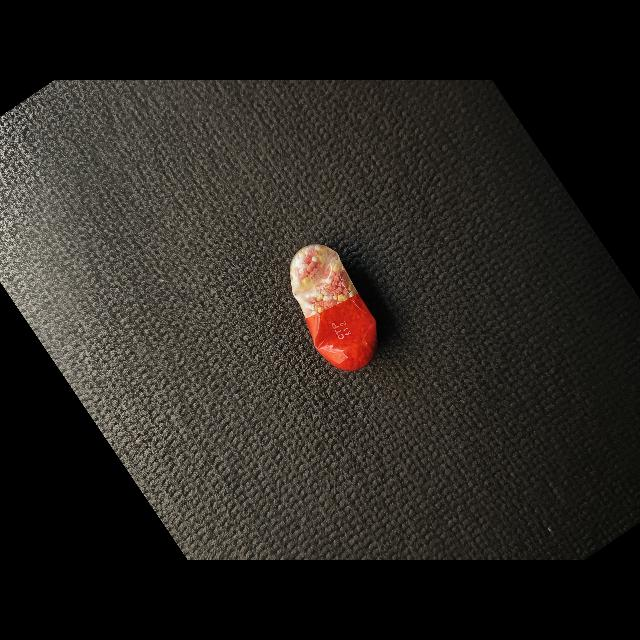Defective Capsule: (290, 244, 377, 372)
